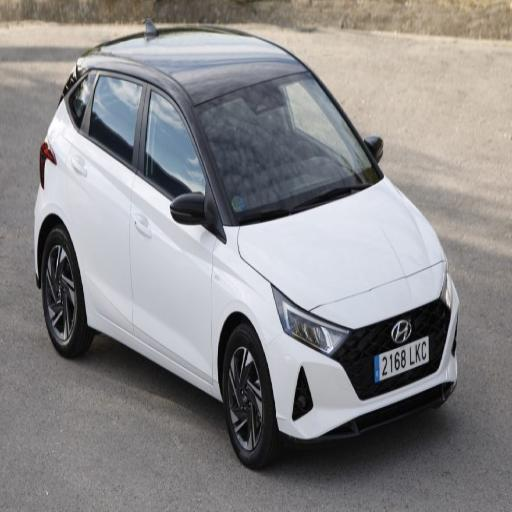License: (371, 334, 433, 383)
